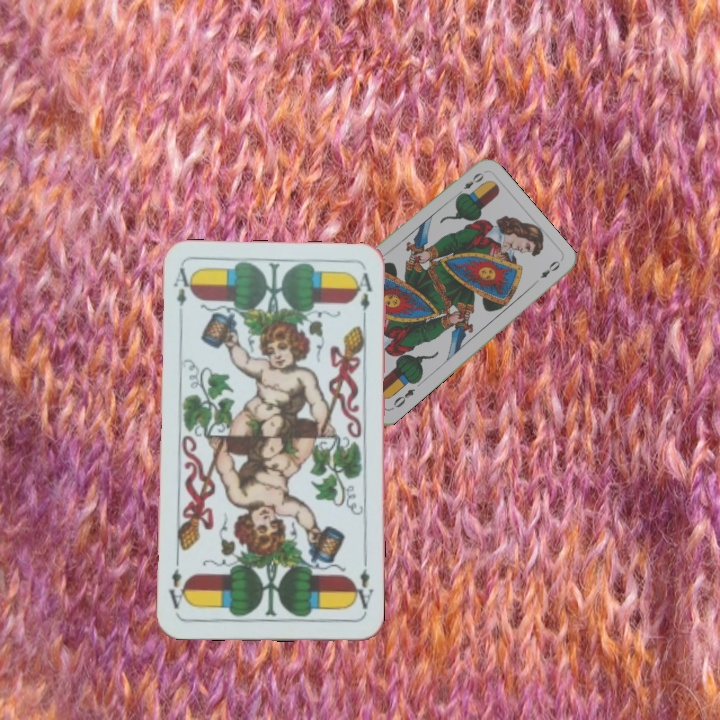EA: (349, 557, 376, 616), (169, 264, 195, 310)
EO: (452, 168, 486, 199), (389, 384, 418, 410)
